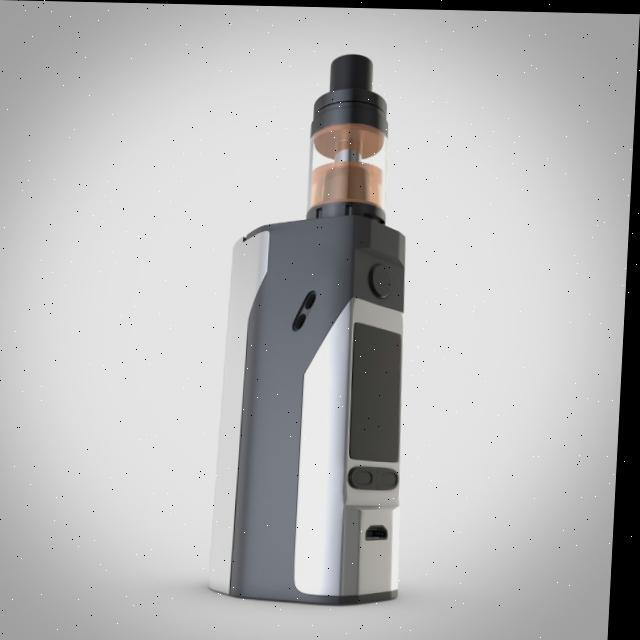vape: (211, 49, 427, 604)
